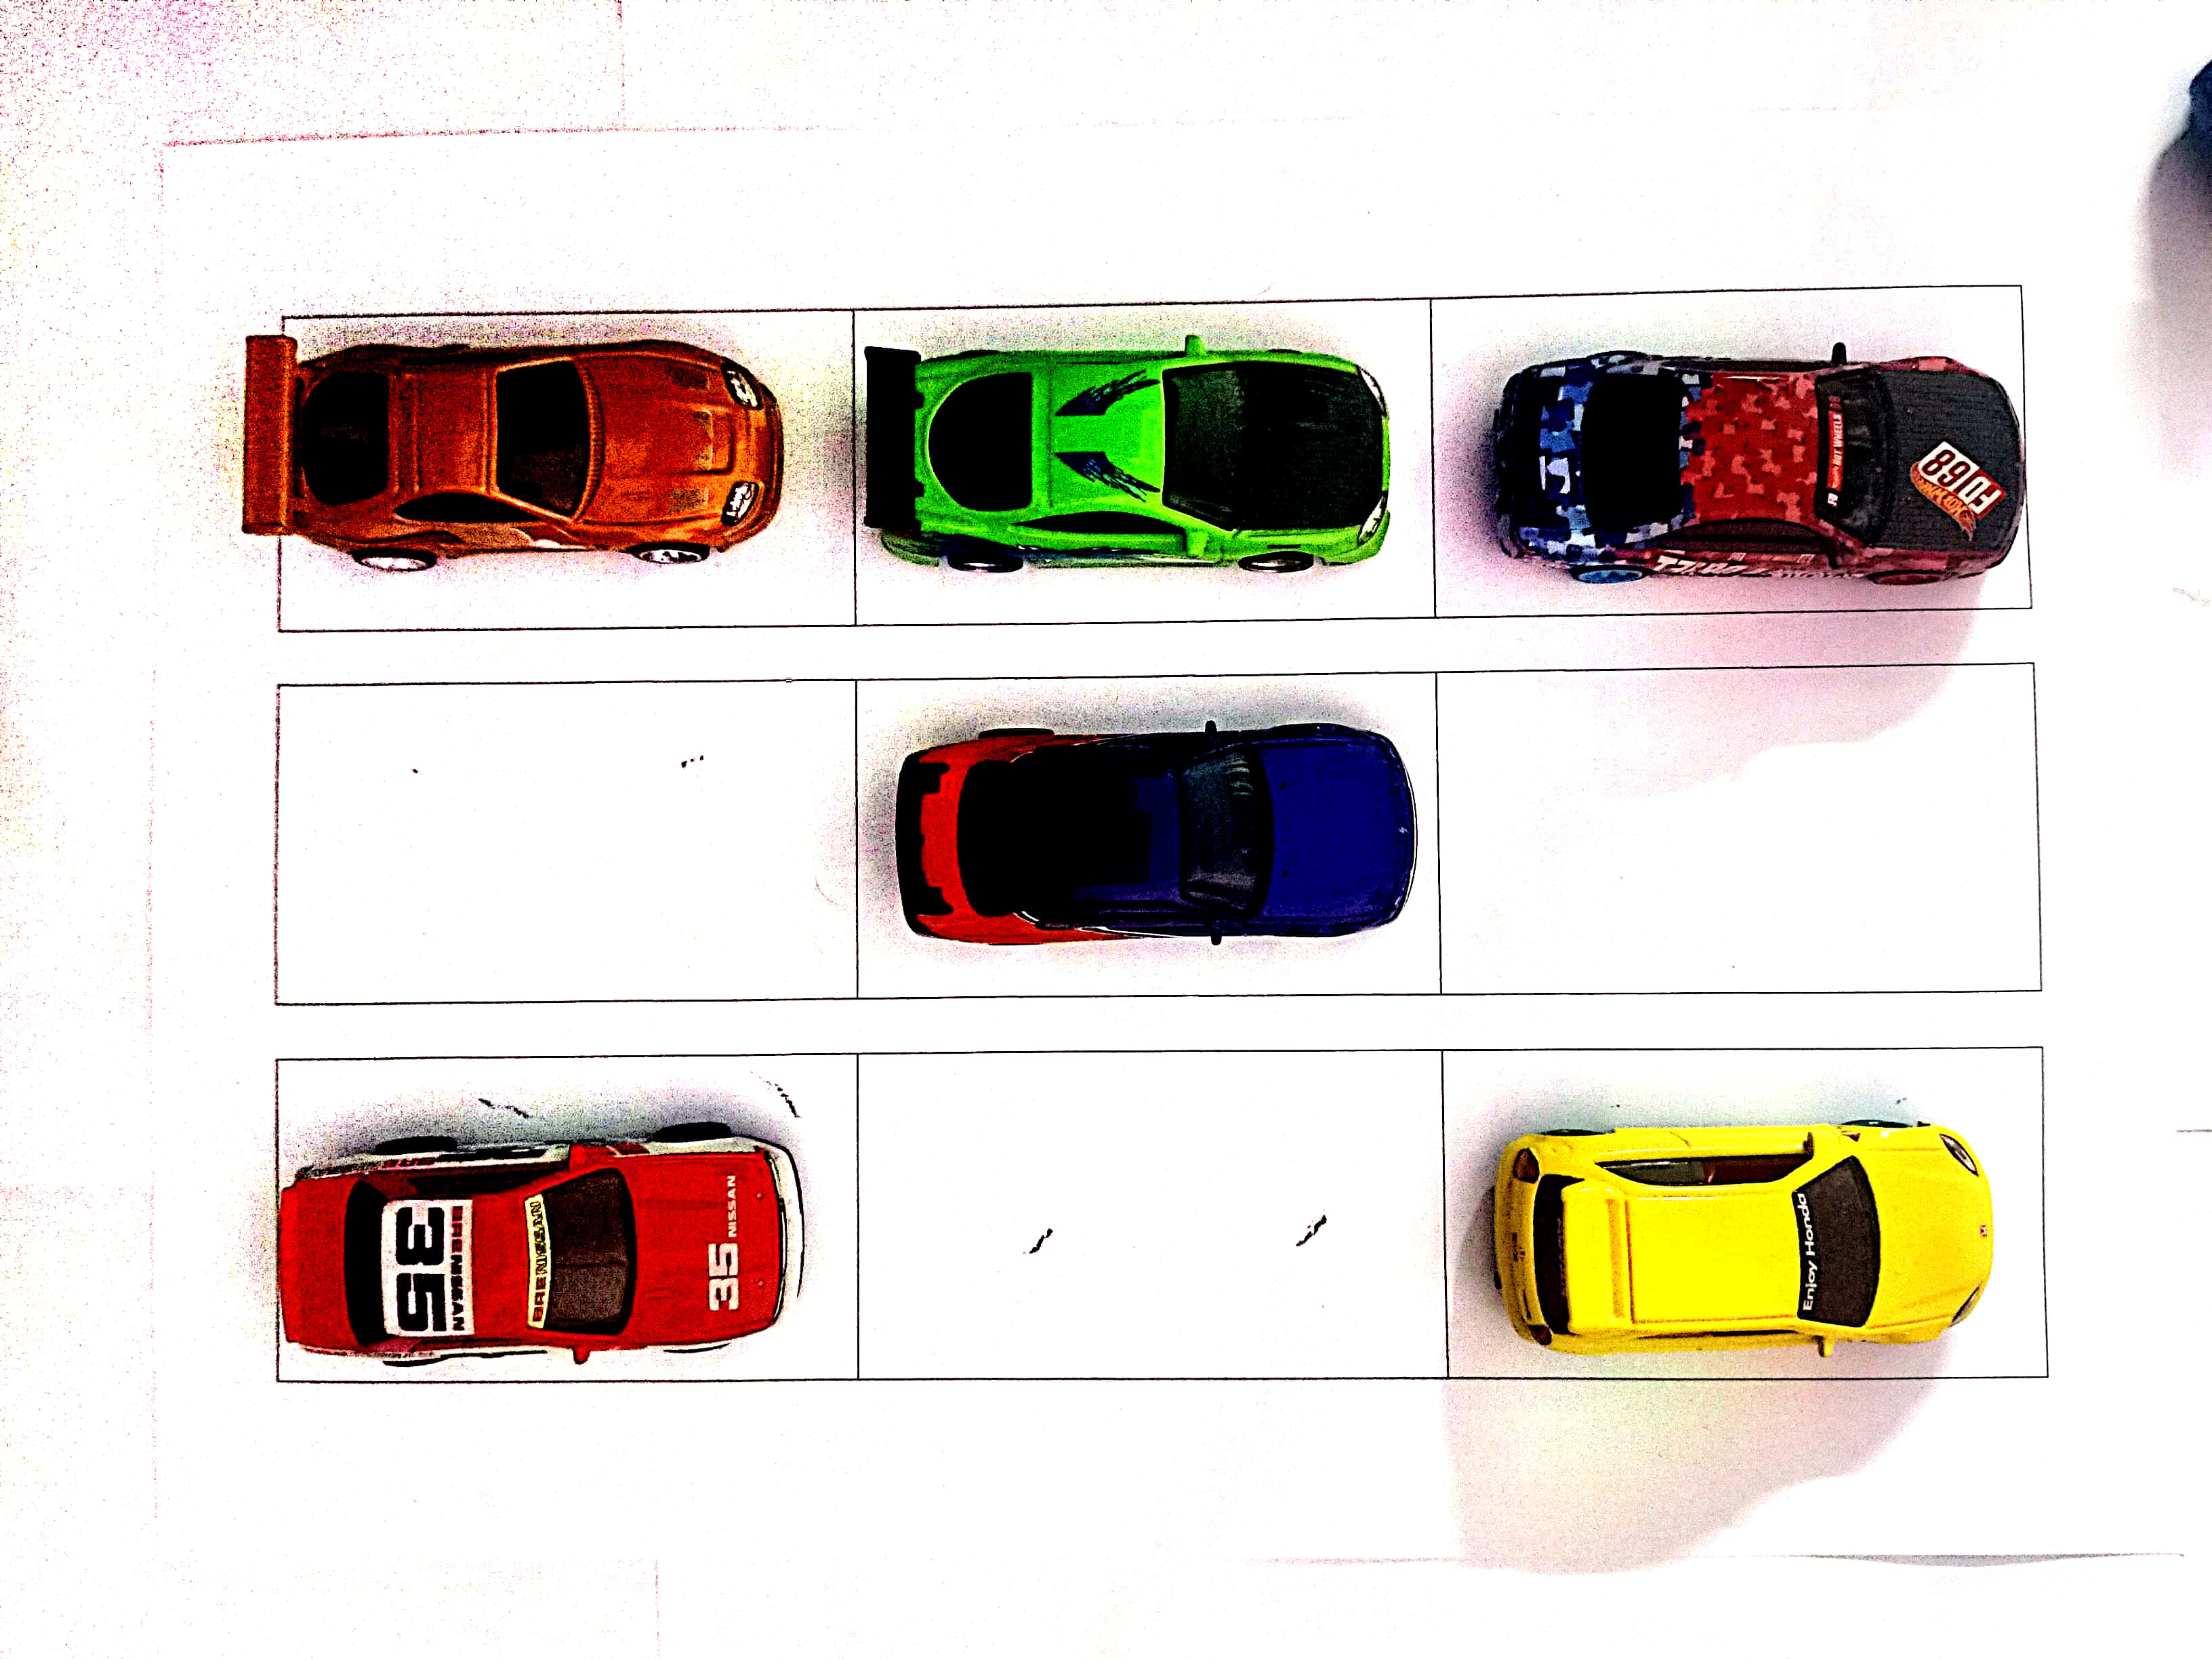Busy: (1446, 1049, 2041, 1378), (270, 1065, 860, 1389), (860, 667, 1428, 997), (1428, 296, 2020, 603), (862, 300, 1423, 619), (286, 317, 860, 627)
Free: (282, 671, 860, 1009), (1440, 662, 2033, 985), (871, 1053, 1442, 1375)
